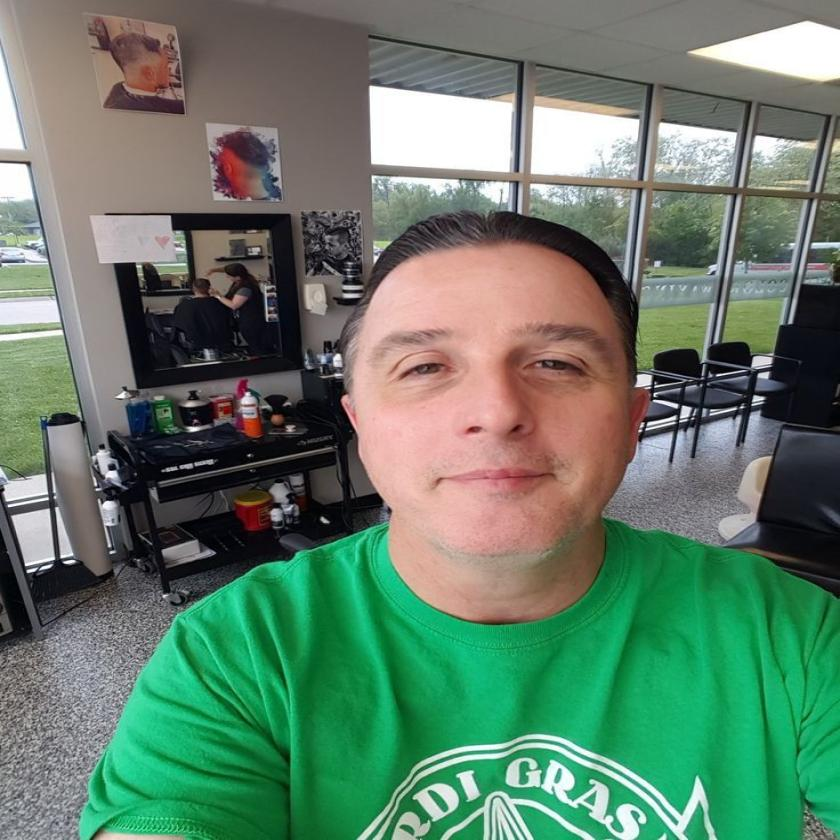Sin_casco: (324, 194, 684, 569)
